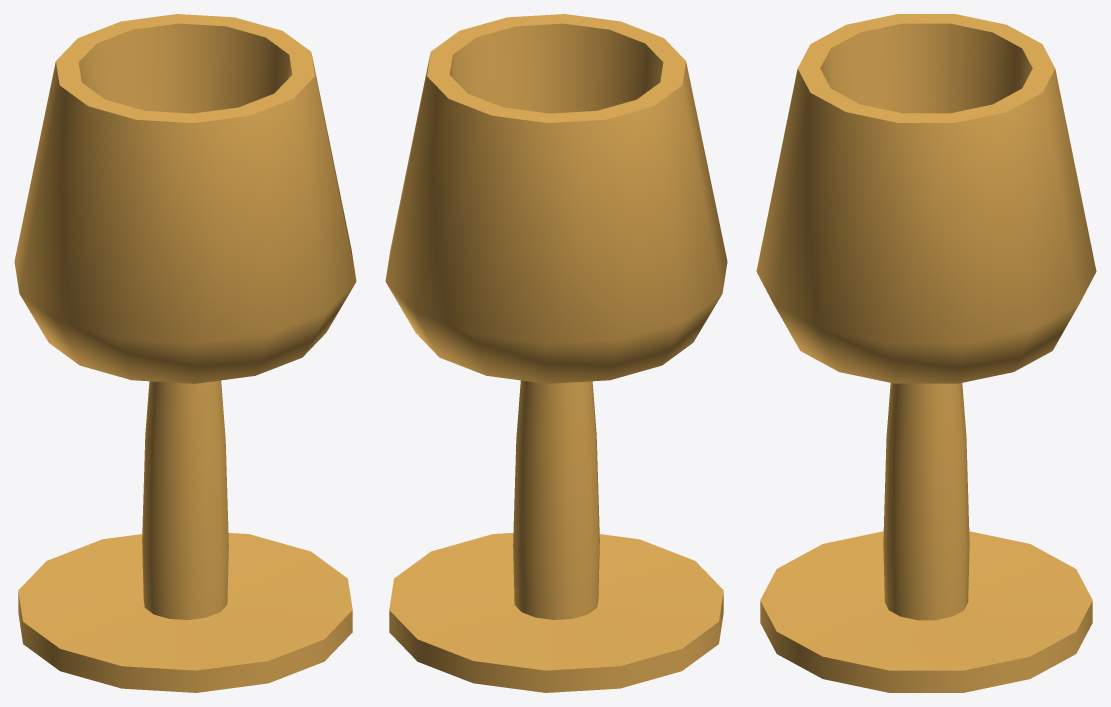
File: Chalice.fbx
3 views of the same model, side by side, from view 1: azimuth 30°, elevation 25°; view 2: azimuth 150°, elevation 25°; view 3: azimuth 270°, elevation 25° (orthographic).
Parts seen in each view (by area): view 1: Chalice; view 2: Chalice; view 3: Chalice.
Part boxes in pixels (x1=…): Chalice: x1=14, y1=14, x2=356, y2=692; Chalice: x1=385, y1=14, x2=727, y2=692; Chalice: x1=756, y1=14, x2=1096, y2=692.
Size of the model in its own units: 100 by 180 by 100.
